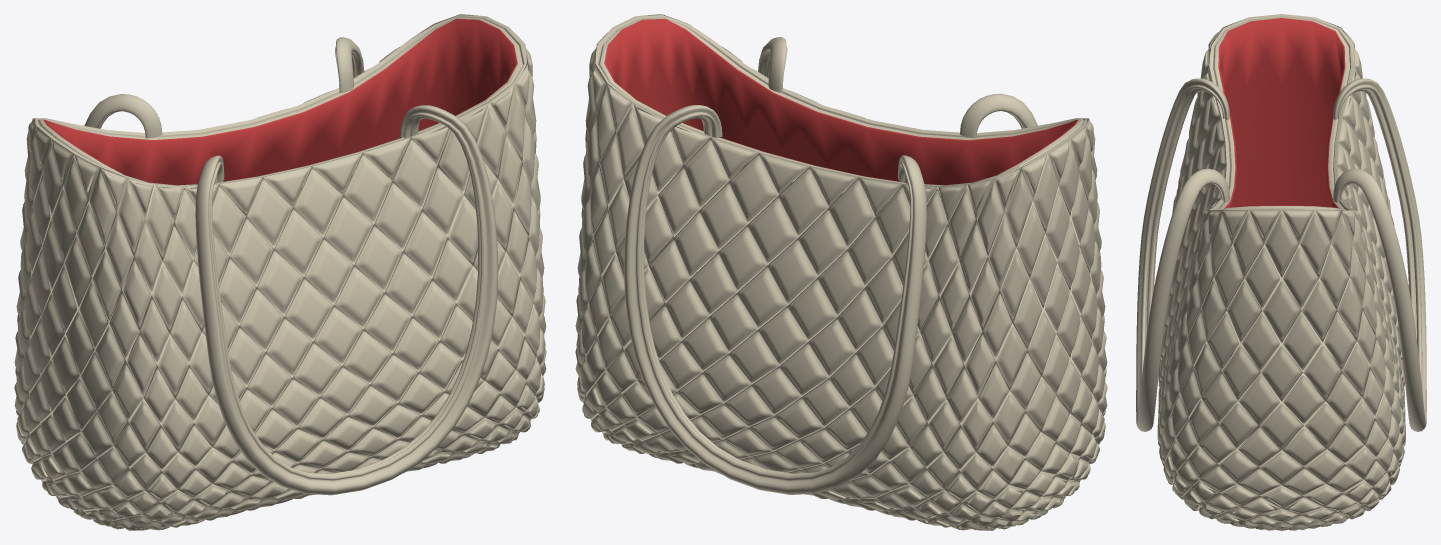
File: Bag.fbx
3 views of the same model, side by side, from view 1: azimuth 30°, elevation 25°; view 2: azimuth 150°, elevation 25°; view 3: azimuth 270°, elevation 25° (orthographic). The views are drawn at different scales.
Visible parts, largest first — view 1: ladies quilted bag001; view 2: ladies quilted bag001; view 3: ladies quilted bag001.
Part boxes in pixels (x1,y1,x2,y2): ladies quilted bag001: (14,14,546,530); ladies quilted bag001: (575,14,1107,530); ladies quilted bag001: (1136,14,1426,530).
Size of the model in its own units: 51.17 by 40.56 by 31.54.
